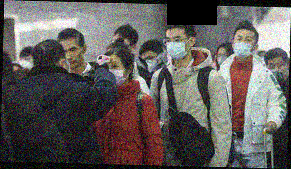with_mask: (105, 58, 127, 89), (164, 35, 189, 62), (232, 34, 256, 60), (266, 60, 286, 82), (140, 54, 159, 74), (215, 50, 230, 68), (18, 56, 34, 71)
without_mask: (62, 45, 83, 70)
